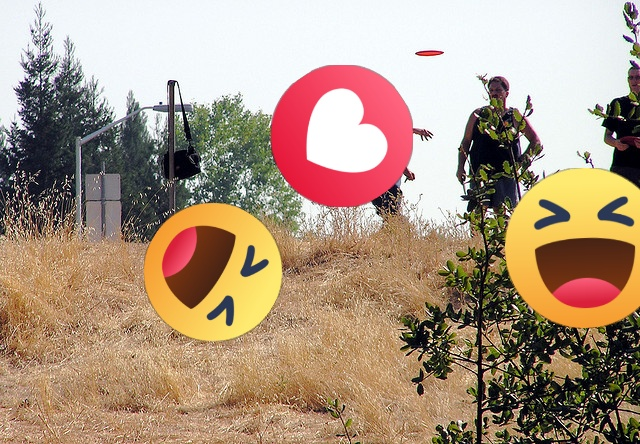haha: (505, 168, 640, 328), (144, 203, 282, 341)
love: (271, 65, 413, 207)
